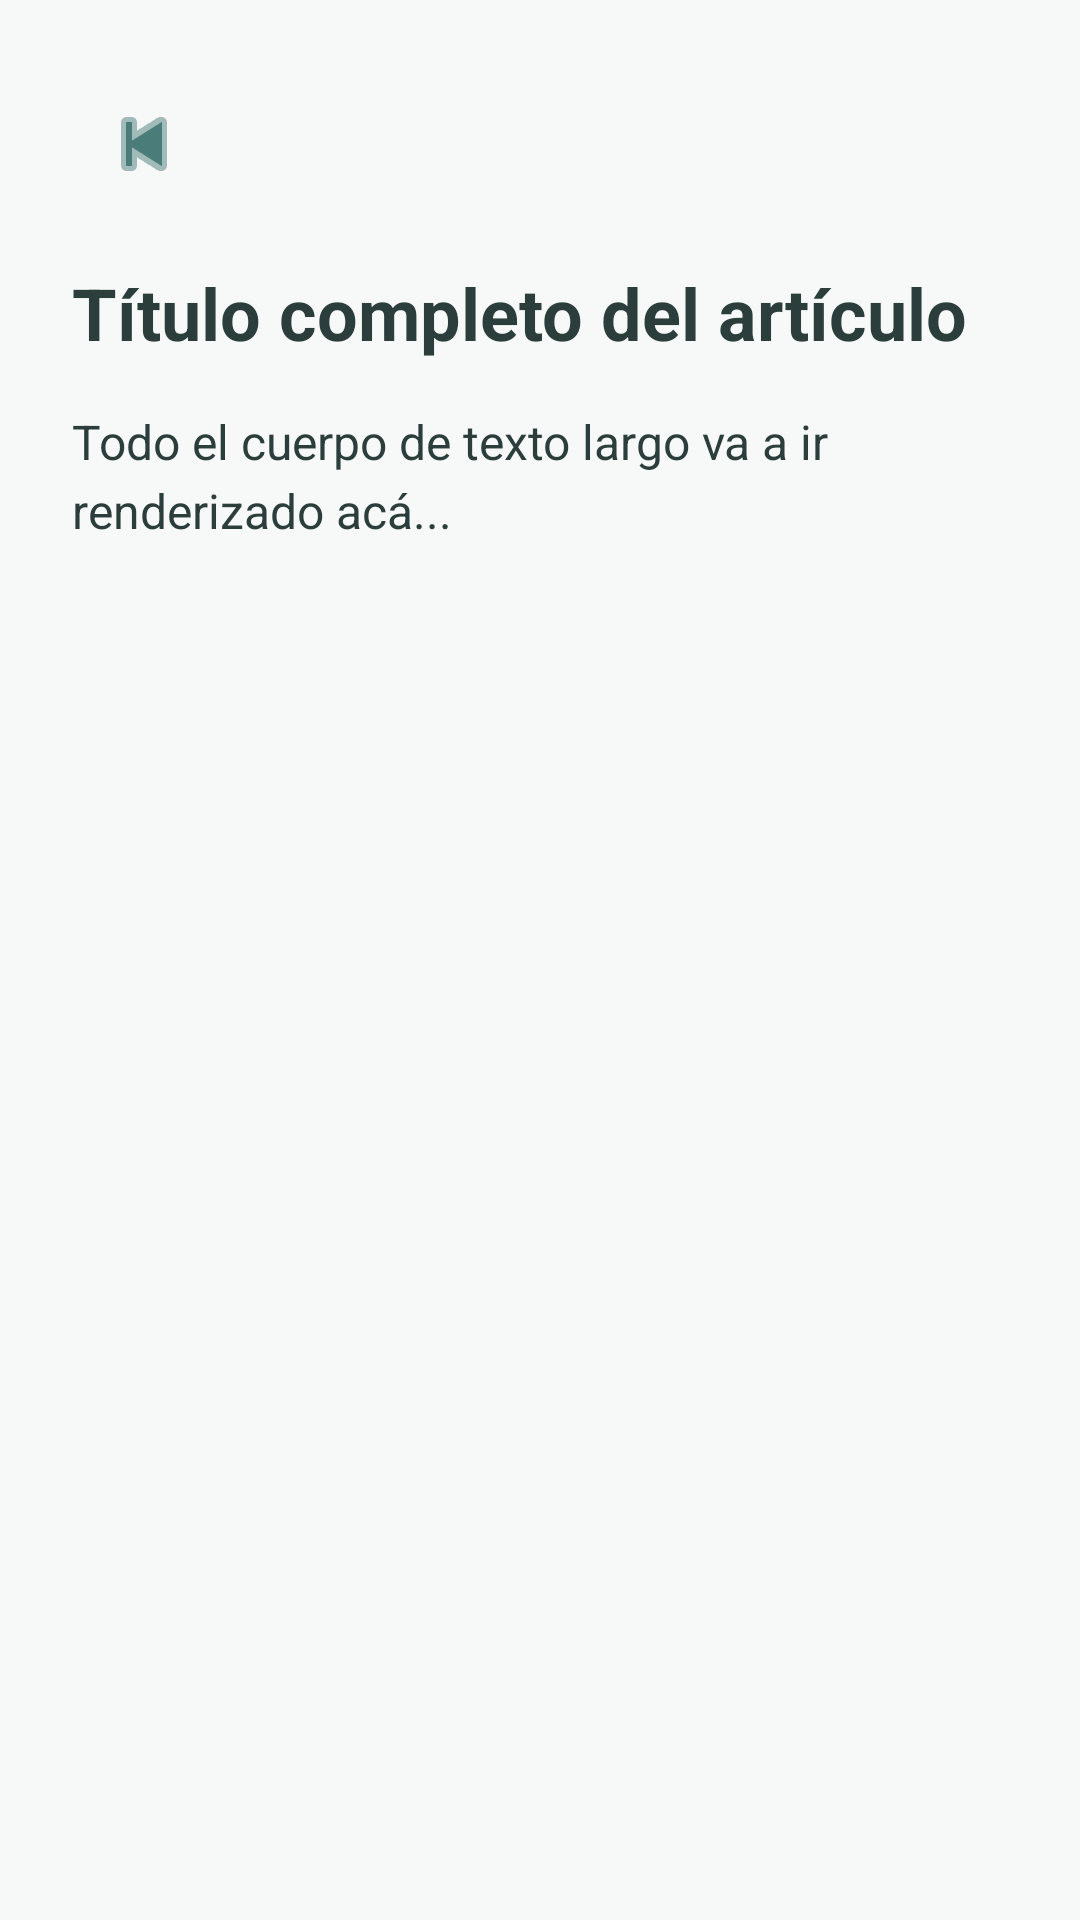

Screen size 1080px x 1920px. Icon name, then its center in pixels as point (x, y):
previous: point (144, 144)
